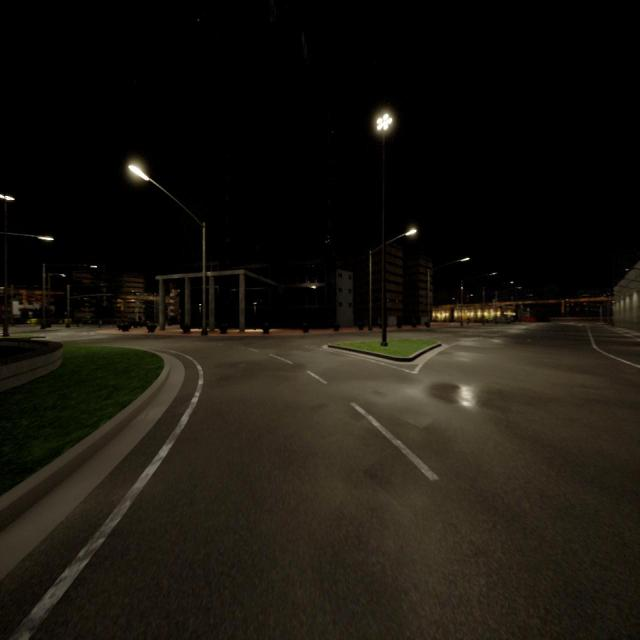traffic_light: (142, 304, 145, 308), (571, 302, 574, 305), (584, 302, 587, 305)
